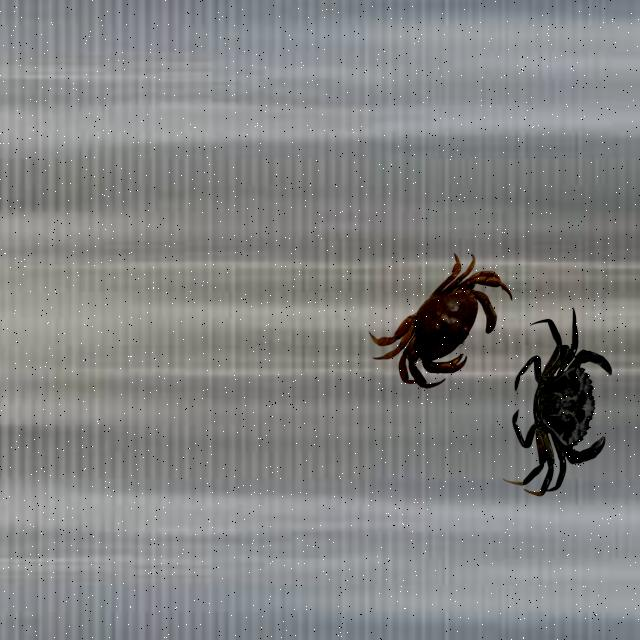European_Green_Crab: (512, 318, 612, 494)
